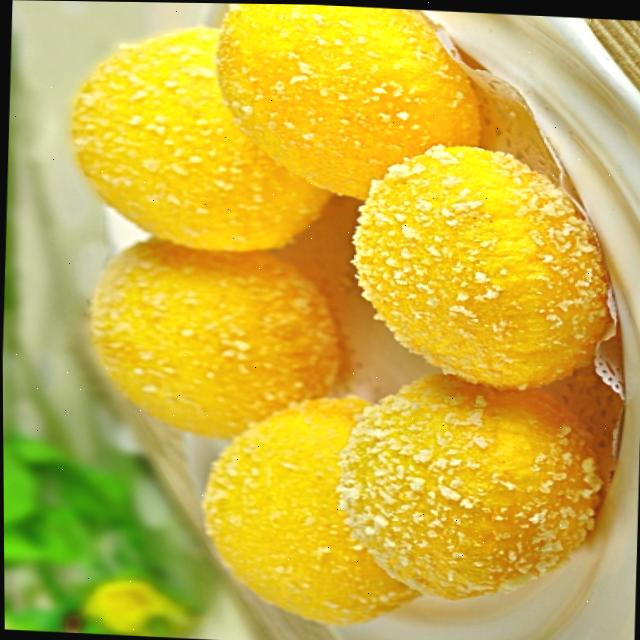炸货点心: (41, 0, 640, 640)
蛋糕甜品: (41, 0, 640, 640)
